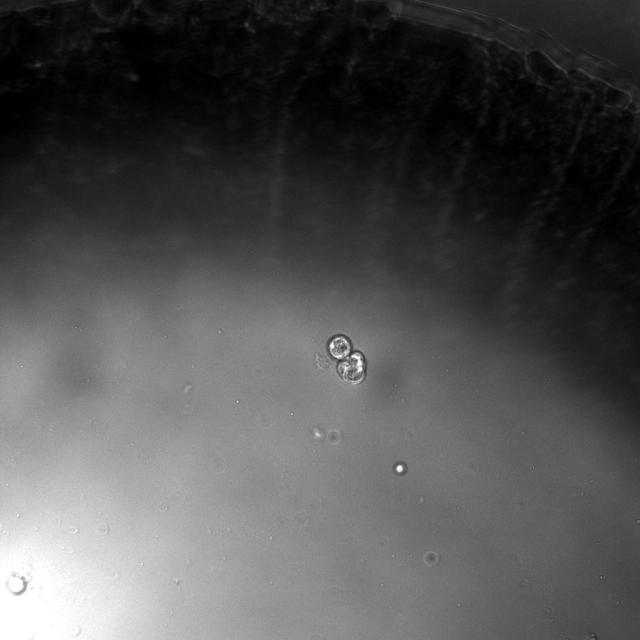organoid: (326, 334, 366, 385), (6, 572, 28, 595), (392, 461, 408, 475)
